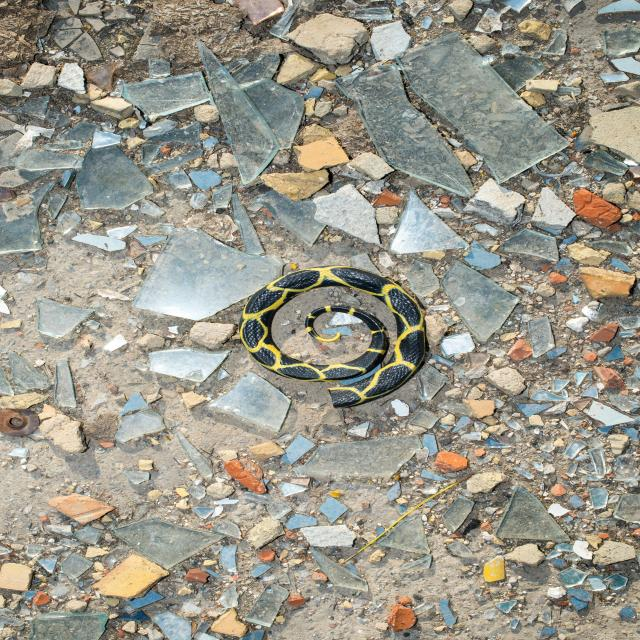electronic: (402, 35, 574, 184)
